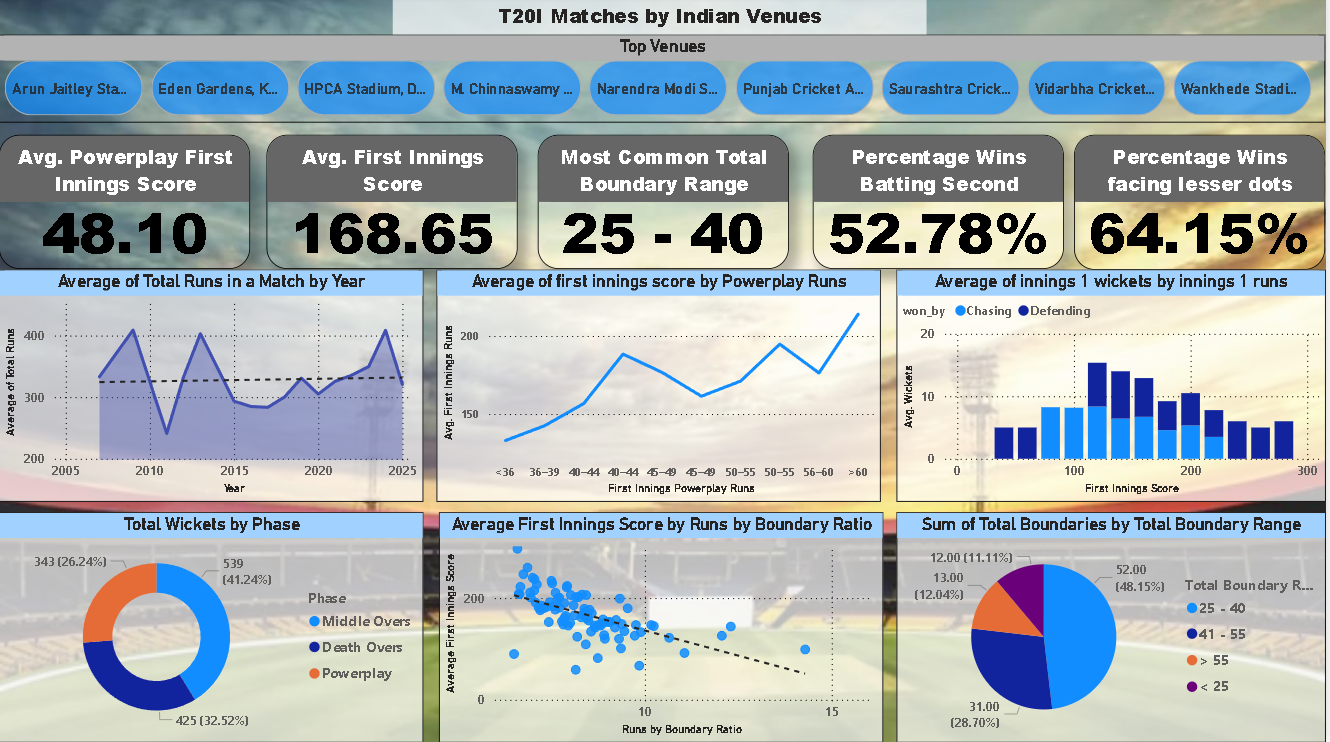

The dashboard page shown, as its layout file describes it:
{"tool":"powerbi","page":{"name":"Indian Venues","canvas":[1280,720],"ordinal":2},"visuals":[{"type":"card","title":"Avg. Powerplay First Innings Score","fields":{"Values":["Indian_Venue_Matches.Average 1st Innings PP Score"]},"box":[0,134.2,242.4,129.8],"z":0},{"type":"textbox","box":[379.4,0,515.1,37.5],"z":1000},{"type":"advancedSlicerVisual","title":"Top Venues","fields":{"Values":["Indian_Venue_Matches.Venue/Stadium"]},"box":[0,37.5,1279.7,85.1],"z":2000},{"type":"card","title":"Avg. First Innings Score","fields":{"Values":["Indian_Venue_Matches.Avg.. First Innings Score"]},"box":[258.3,134.2,242.4,129.8],"z":3000},{"type":"card","title":"Most Common Total Boundary Range ","fields":{"Values":["Indian_Venue_Matches.Most_Common_Boundary_Range"]},"box":[519.4,134.2,242.4,129.8],"z":4000},{"type":"card","title":"Percentage Wins Batting Second","fields":{"Values":["Indian_Venue_Matches.Pct_Wins_Chasing"]},"box":[784.9,134.2,242.4,129.8],"z":5000},{"type":"pieChart","title":"Sum of Total Boundaries by Total Boundary Range","fields":{"Category":["Indian_Venue_Matches.Total Boundary Range"],"Y":["Indian_Venue_Matches.Total Boundaries"]},"box":[865.7,497.8,414.1,222.2],"z":6000},{"type":"card","title":"Percentage Wins facing lesser dots","fields":{"Values":["Indian_Venue_Matches.WinPct_LowerDotTeam"]},"box":[1037.5,133.9,242.5,130.3],"z":7000},{"type":"lineChart","title":"Average of first innings score by Powerplay Runs","fields":{"Category":["Indian_Venue_Matches.Powerplay_1st_Bin"],"Y":["Indian_Venue_Matches.innings_1_runs"]},"box":[422.7,264,428.5,223.6],"z":8000},{"type":"scatterChart","title":"Average First Innings Score by Runs by Boundary Ratio","fields":{"X":["Indian_Venue_Matches.Runs by Boundary Ratio"],"Y":["Indian_Venue_Matches.innings_1_runs"]},"box":[424.2,497.8,428.5,222.2],"z":9000},{"type":"donutChart","title":"Total Wickets by Phase ","fields":{"Y":["Indian_Venue_Matches.Total Wickets by Phase"],"Category":["Wicket Phases.Phase"]},"box":[0,497.8,409.7,222.2],"z":10000},{"type":"areaChart","title":"Average of Total Runs in a Match  by  Year ","fields":{"Category":["Indian_Venue_Matches.Sum of Year"],"Y":["Indian_Venue_Matches.Total Runs"]},"box":[0,264,409.7,223.6],"z":11000},{"type":"columnChart","title":"Average of innings 1 wickets by innings 1 runs","fields":{"Series":["Indian_Venue_Matches.won_by"],"Y":["Indian_Venue_Matches.innings_1_wkts"],"Category":["Indian_Venue_Matches.innings_1_runs (bins)"]},"box":[865.7,264,414.1,223.6],"z":12000}]}

Visuals, with their boxes in screenshot pixels (x1, y1, x2, y2), scaled from the page's 1280x720 canvas onto the 1330x742 screenshot:
"Avg. Powerplay First Innings Score" card: left=0, top=138, right=252, bottom=272
textbox: left=394, top=0, right=929, bottom=39
"Top Venues" advancedSlicerVisual: left=0, top=39, right=1329, bottom=126
"Avg. First Innings Score" card: left=268, top=138, right=520, bottom=272
"Most Common Total Boundary Range " card: left=540, top=138, right=792, bottom=272
"Percentage Wins Batting Second" card: left=816, top=138, right=1067, bottom=272
"Sum of Total Boundaries by Total Boundary Range" pieChart: left=900, top=513, right=1329, bottom=741
"Percentage Wins facing lesser dots" card: left=1078, top=138, right=1329, bottom=272
"Average of first innings score by Powerplay Runs" lineChart: left=439, top=272, right=884, bottom=502
"Average First Innings Score by Runs by Boundary Ratio" scatterChart: left=441, top=513, right=886, bottom=741
"Total Wickets by Phase " donutChart: left=0, top=513, right=426, bottom=741
"Average of Total Runs in a Match  by  Year " areaChart: left=0, top=272, right=426, bottom=502
"Average of innings 1 wickets by innings 1 runs" columnChart: left=900, top=272, right=1329, bottom=502
